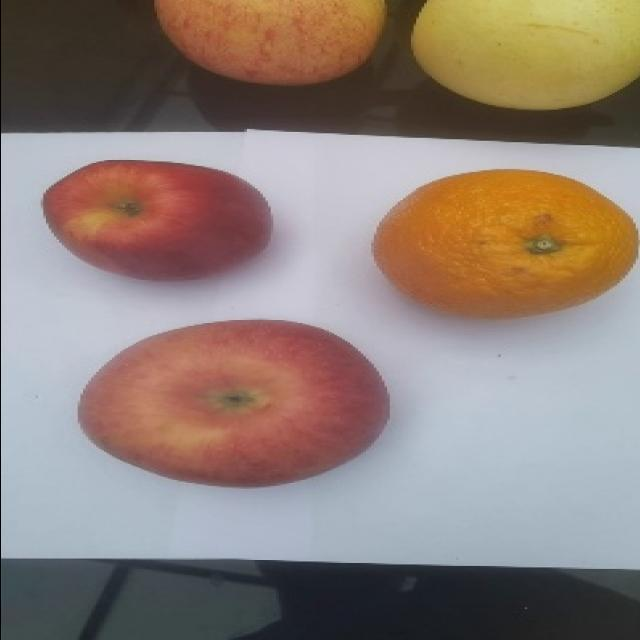Apple: (76, 317, 390, 488), (41, 158, 273, 281), (153, 0, 388, 86)
Orange: (371, 167, 638, 318)
